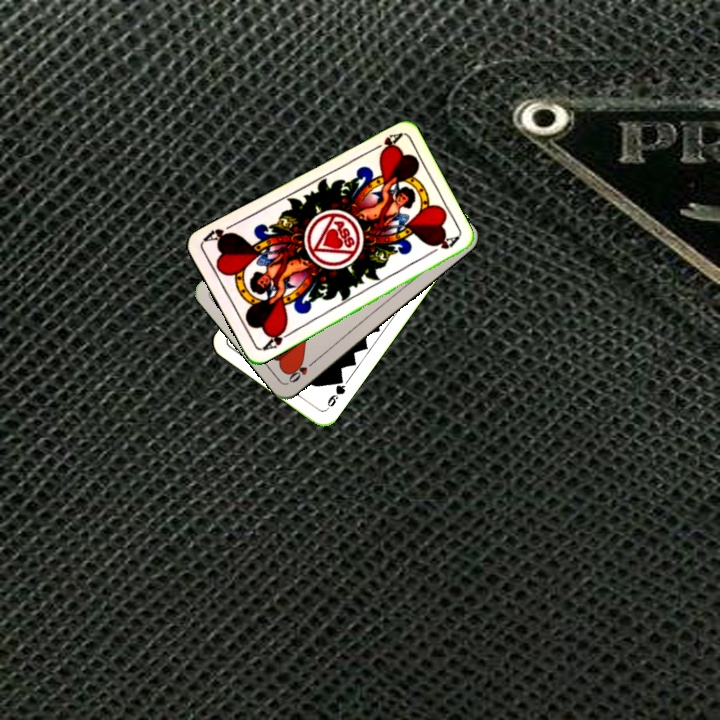G9: (322, 374, 348, 413)
HA: (258, 323, 295, 354), (365, 129, 404, 157)
HO: (285, 356, 319, 385)
